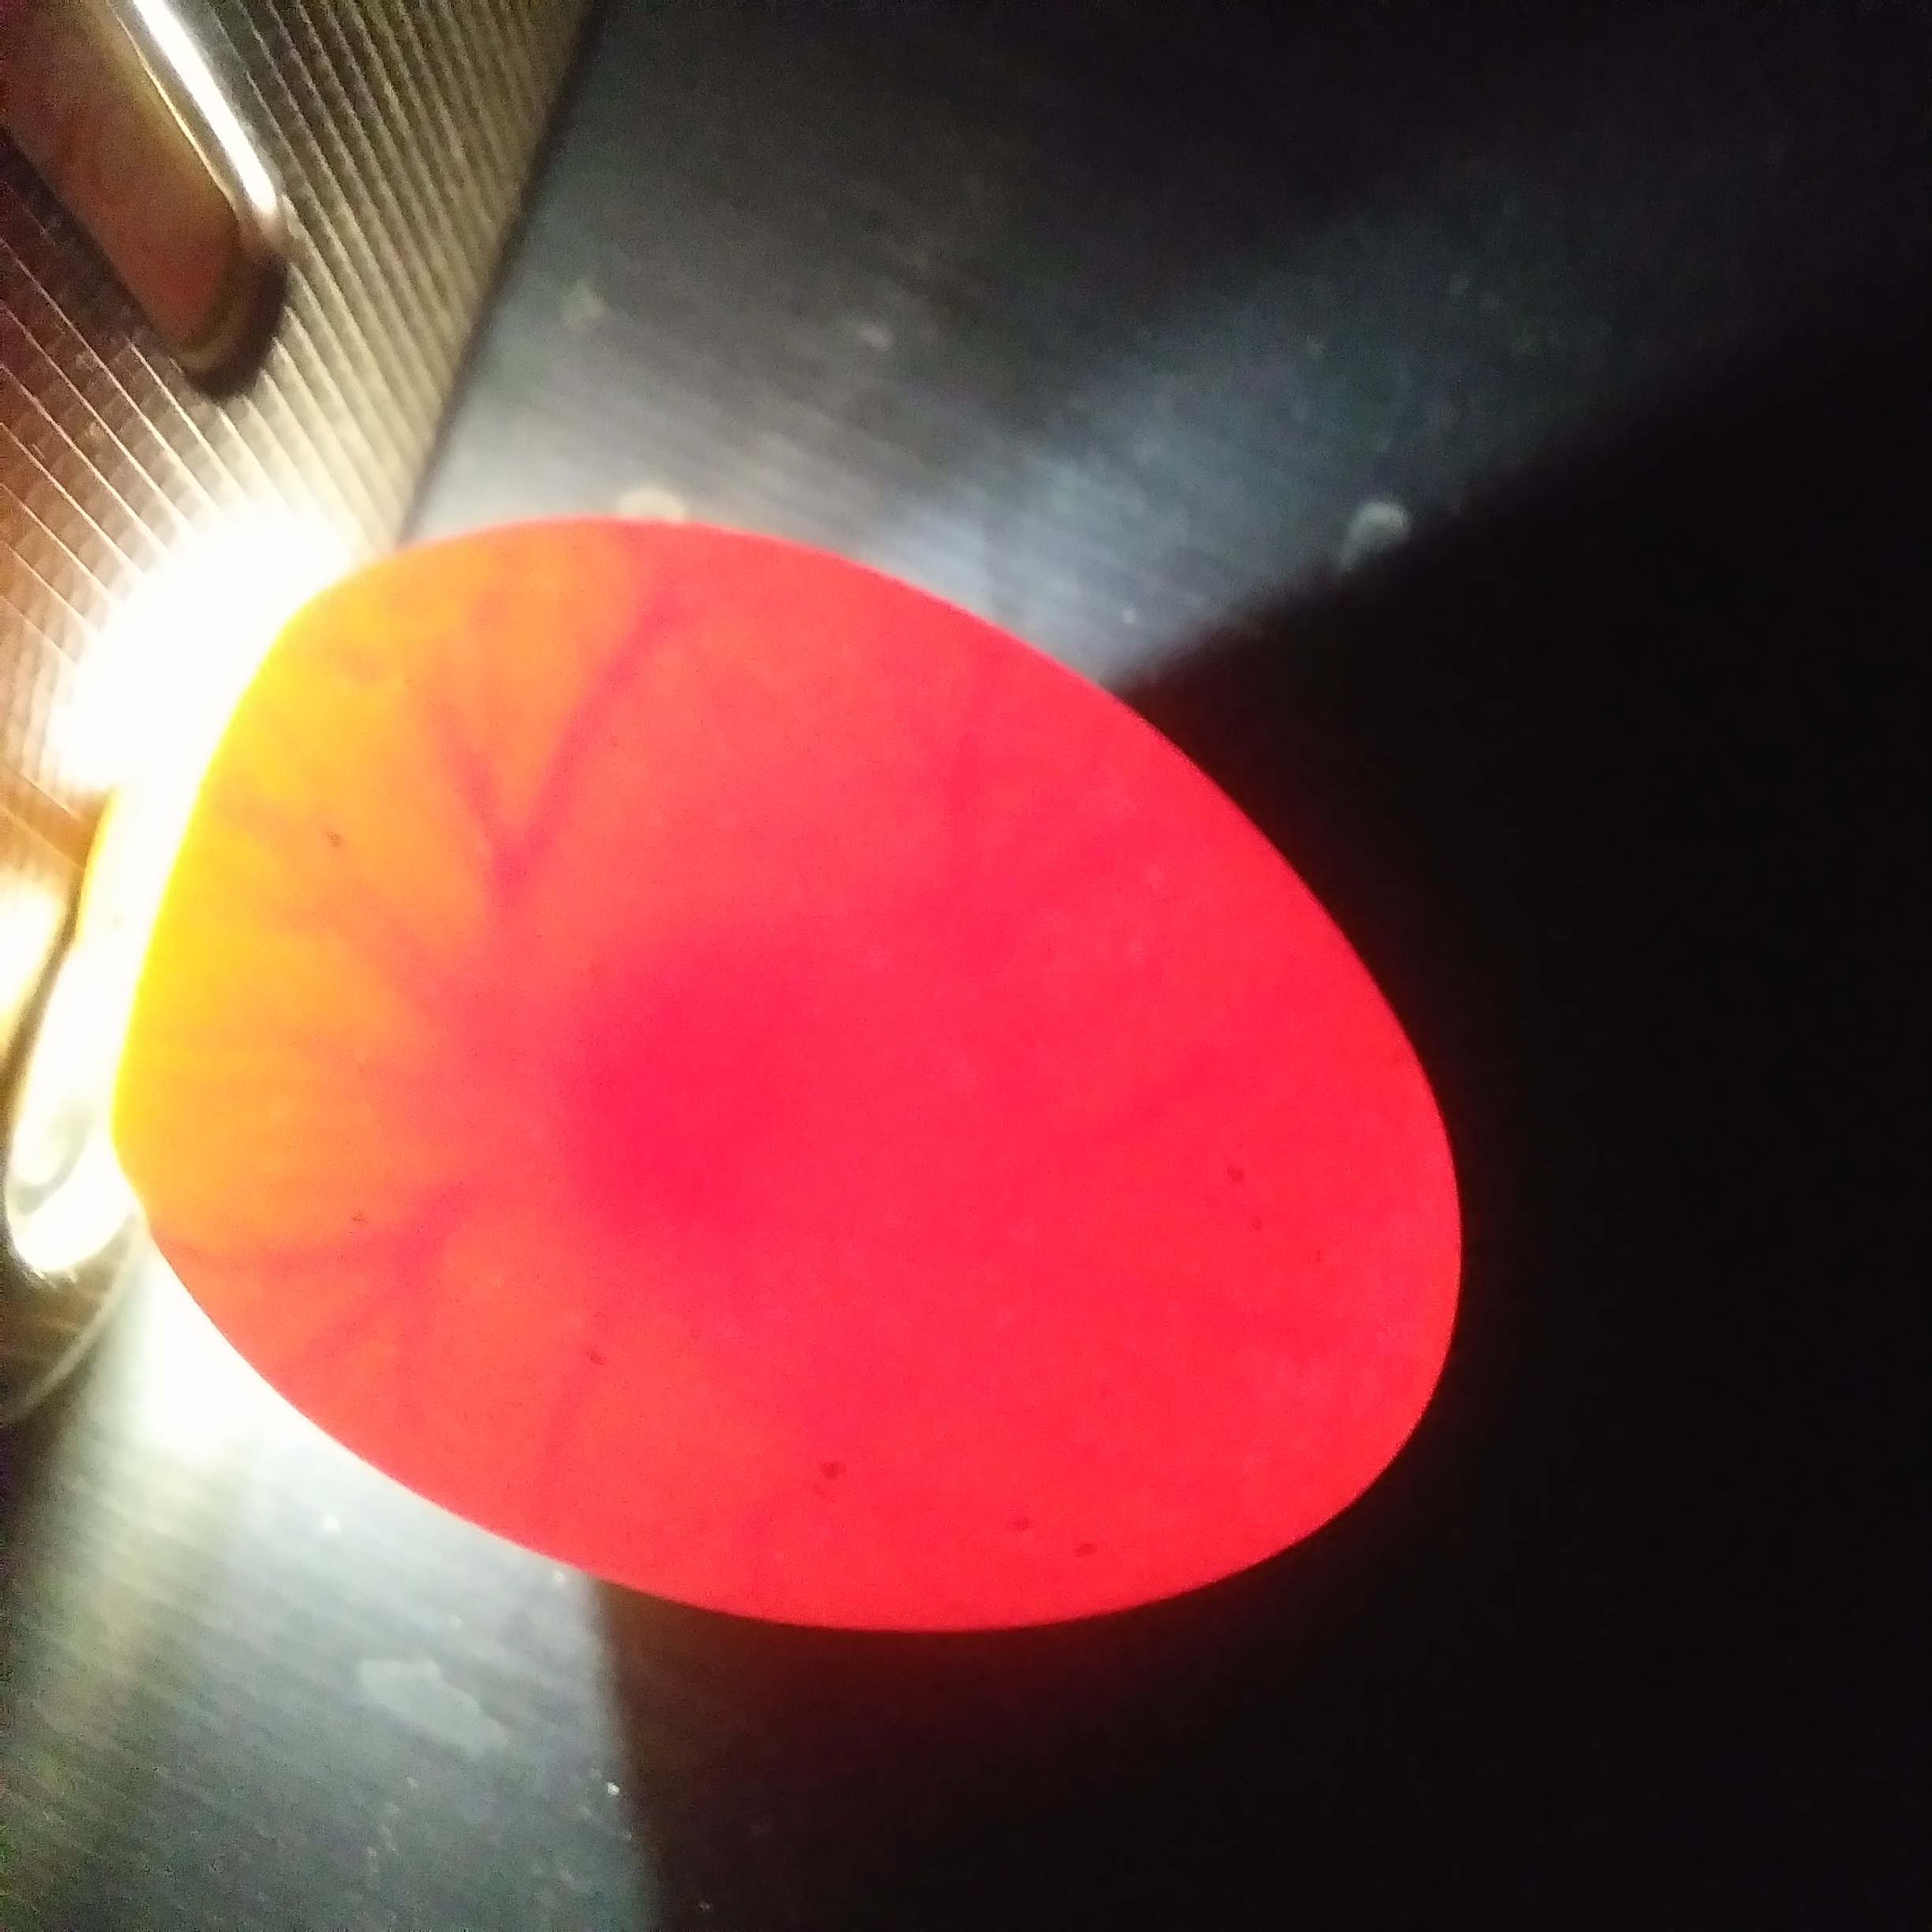bloodcell: (446, 602, 789, 950), (241, 826, 432, 1353)
embryo: (518, 978, 732, 1200)
